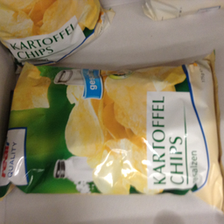chips: (2, 62, 223, 207), (1, 1, 114, 67)
